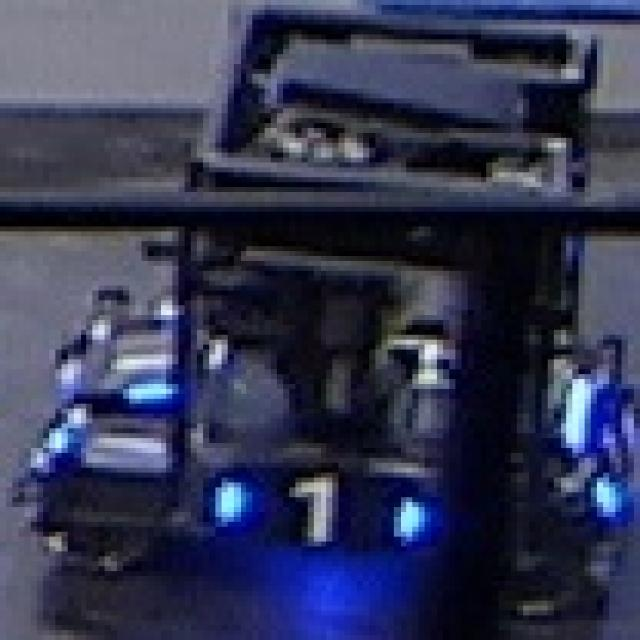B1: (197, 463, 437, 551)
